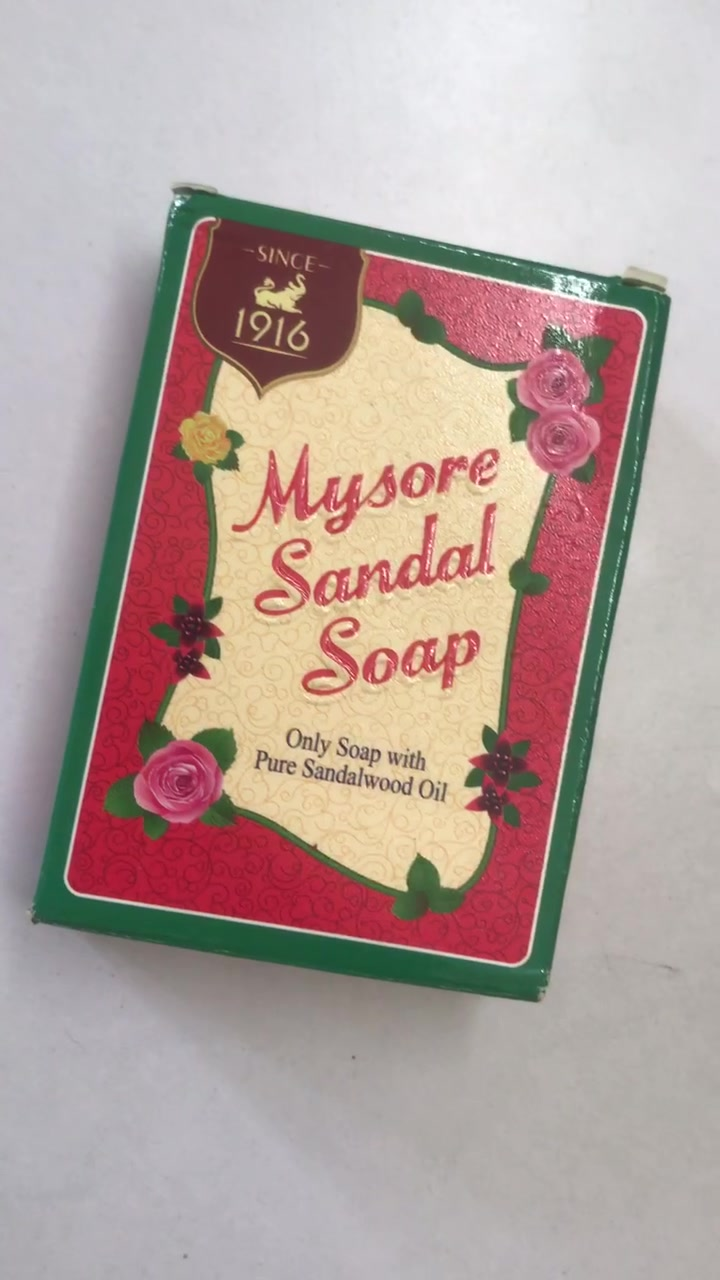mysore sandal soap: (27, 192, 667, 1005)
